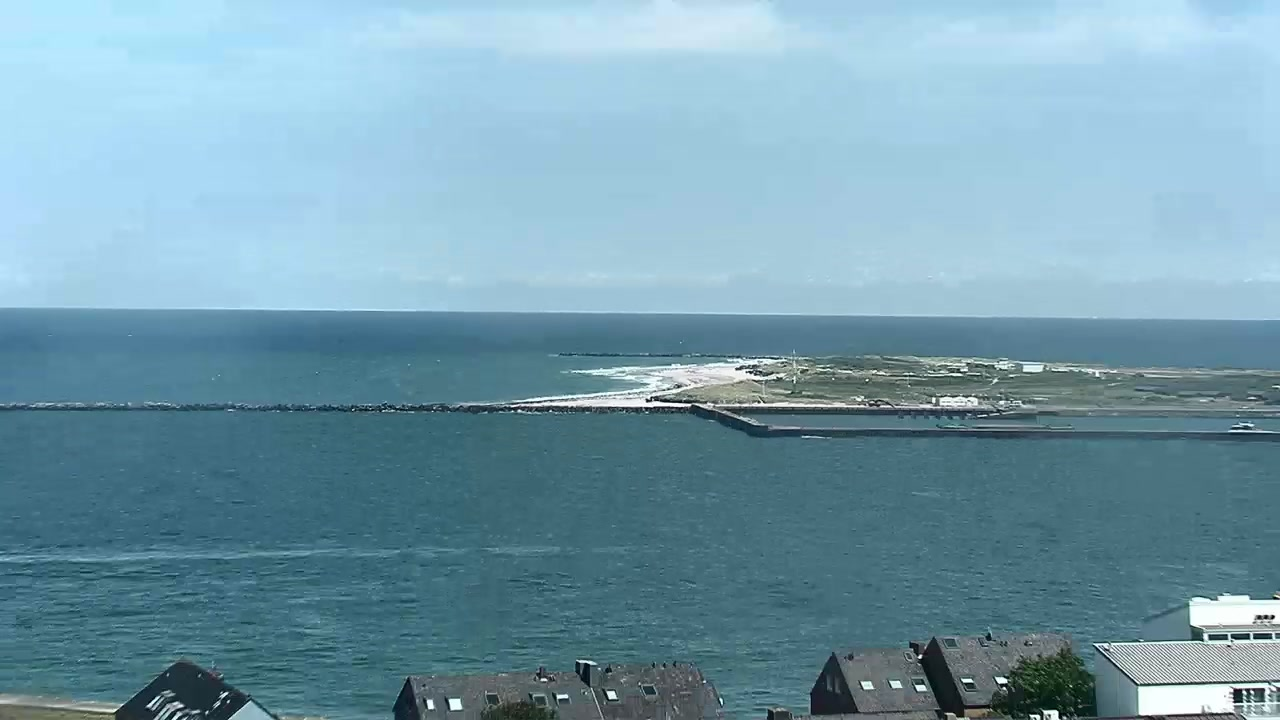land: (865, 398, 894, 407)
sea: (1229, 419, 1267, 431)
